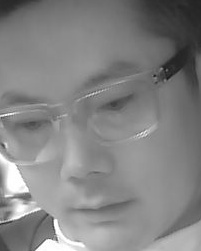glass: (73, 77, 160, 145), (1, 103, 60, 162)
mouth: (64, 190, 136, 232)
